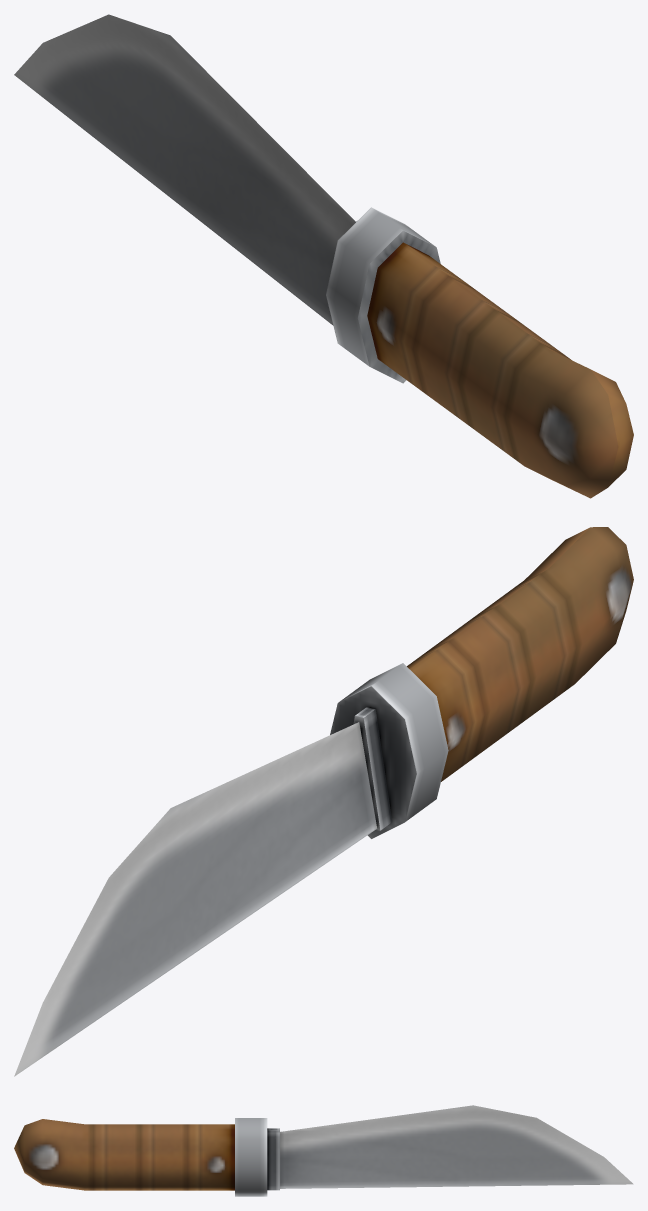
Rendered from knife001.fbx.
The picture shows the model from 3 angles, top to bottom: view 1: azimuth 30°, elevation 25°; view 2: azimuth 150°, elevation 25°; view 3: azimuth 270°, elevation 25°; orthographic projection. The views are drawn at different scales.
Visible parts, largest first — view 1: knife001; view 2: knife001; view 3: knife001.
Part boxes in pixels (x1,y1,x2,y2): knife001: (14, 14, 633, 498); knife001: (14, 527, 633, 1076); knife001: (14, 1105, 633, 1196).
Bounding box in the file's own units: 0.0294 × 0.0551 × 0.339.
